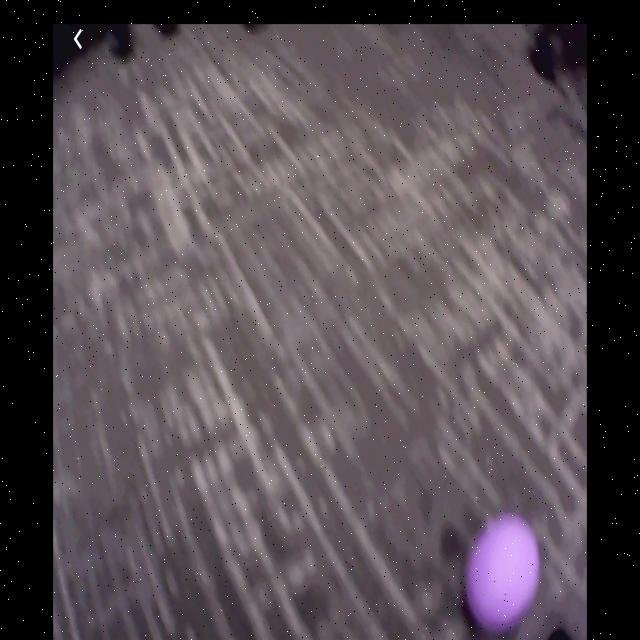ball: (464, 516, 540, 632)
